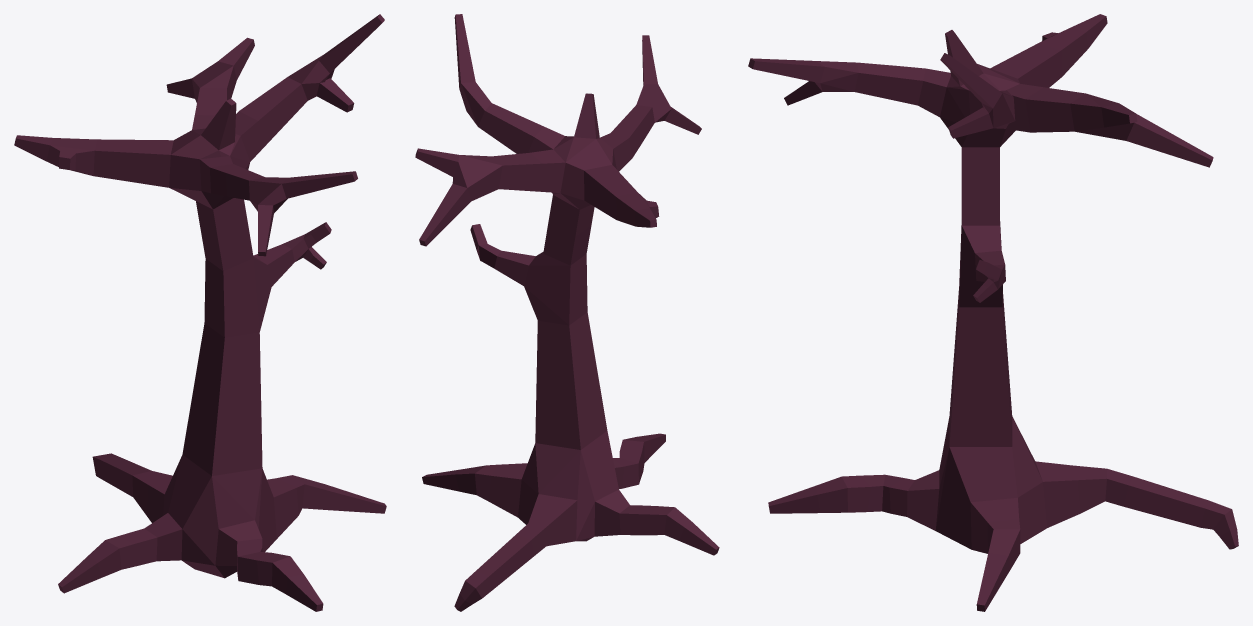
Rendered from treeTrunk_002_grp.fbx.
3 renders of one model, left to right at view 1: azimuth 30°, elevation 25°; view 2: azimuth 150°, elevation 25°; view 3: azimuth 270°, elevation 25°, orthographic. The views are drawn at different scales.
Visible parts, largest first — view 1: treeTrunk_002_grp; view 2: treeTrunk_002_grp; view 3: treeTrunk_002_grp.
Boxes of the visible parts, <box> form: treeTrunk_002_grp: <box>14,14,386,611</box>; treeTrunk_002_grp: <box>415,14,719,611</box>; treeTrunk_002_grp: <box>748,14,1238,611</box>.
Size of the model in its own units: 450 by 700 by 550.
